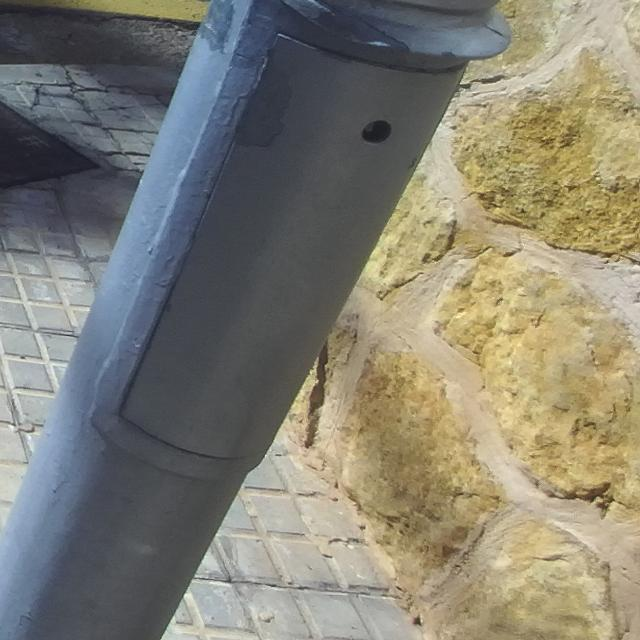calcada_quebrada: (31, 80, 109, 108)
